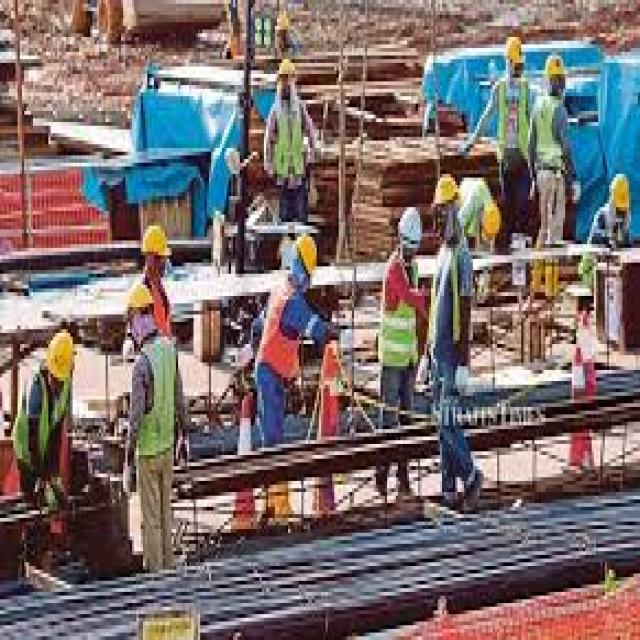Reflective-Jacket: (132, 337, 180, 462), (260, 285, 306, 385), (532, 96, 568, 174)
Safety-Helmet: (44, 326, 77, 384), (138, 222, 174, 263), (396, 204, 424, 252), (292, 230, 319, 278), (431, 170, 460, 211), (123, 278, 156, 314), (609, 170, 631, 215), (503, 34, 528, 70), (544, 52, 568, 89), (482, 200, 504, 240), (277, 56, 297, 82)
